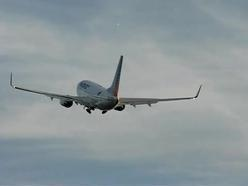aircraft: (9, 55, 203, 116)
